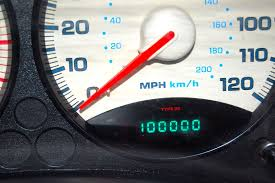Digital_Meter: (133, 119, 213, 140)
